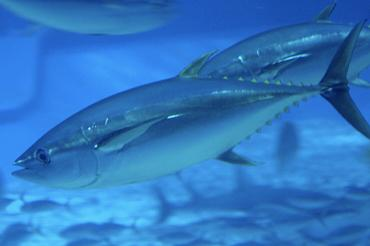Scombridae -Tunas-: (11, 13, 370, 202)
